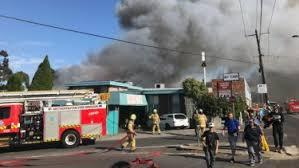smoke: (40, 0, 299, 106)
